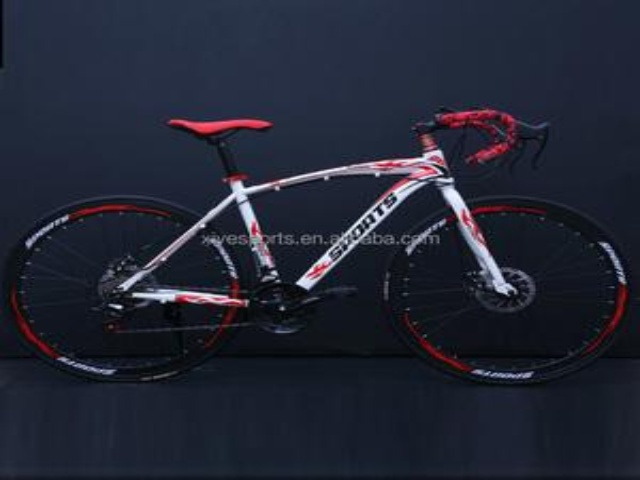bike: (24, 105, 630, 405)
